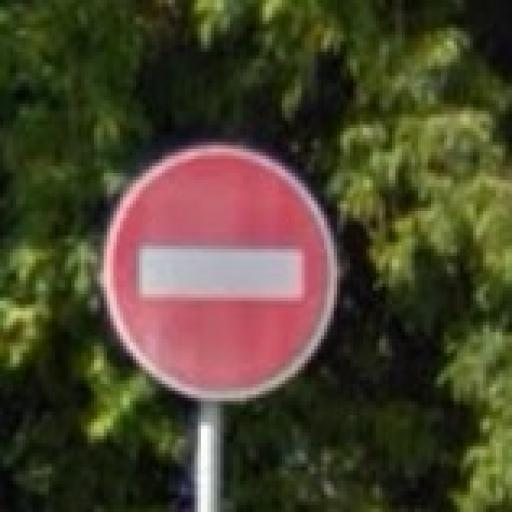traffic_sign: (101, 143, 338, 399)
